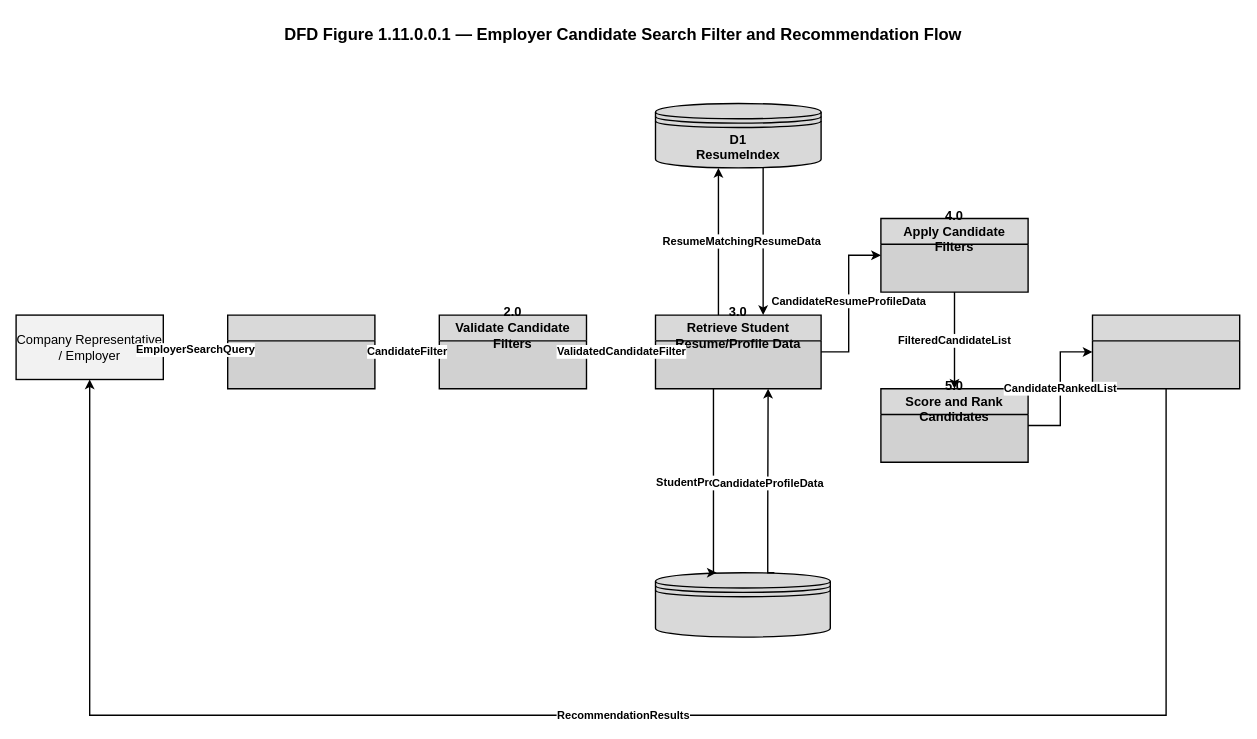
Image size: 1257x739. Some labels were removed from this diagram. The box of each missing label's shape, as (x1, y1, x2, y2) in pixels:
1.0 Receive Employer Search Query: (227, 314, 375, 389)
6.0 Format Candidate Results: (1091, 314, 1240, 389)
D2 StudentProfile Database: (654, 572, 831, 637)
